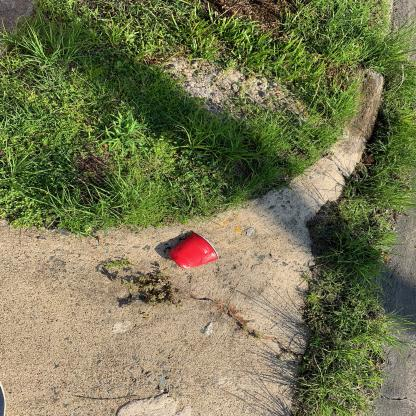trash: (168, 230, 222, 271)
